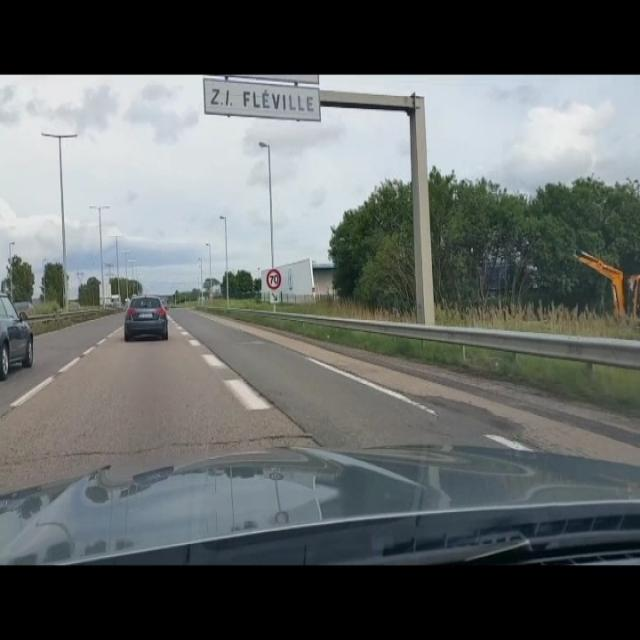side_right: (270, 292, 279, 303)
speed_70: (265, 268, 283, 292)
